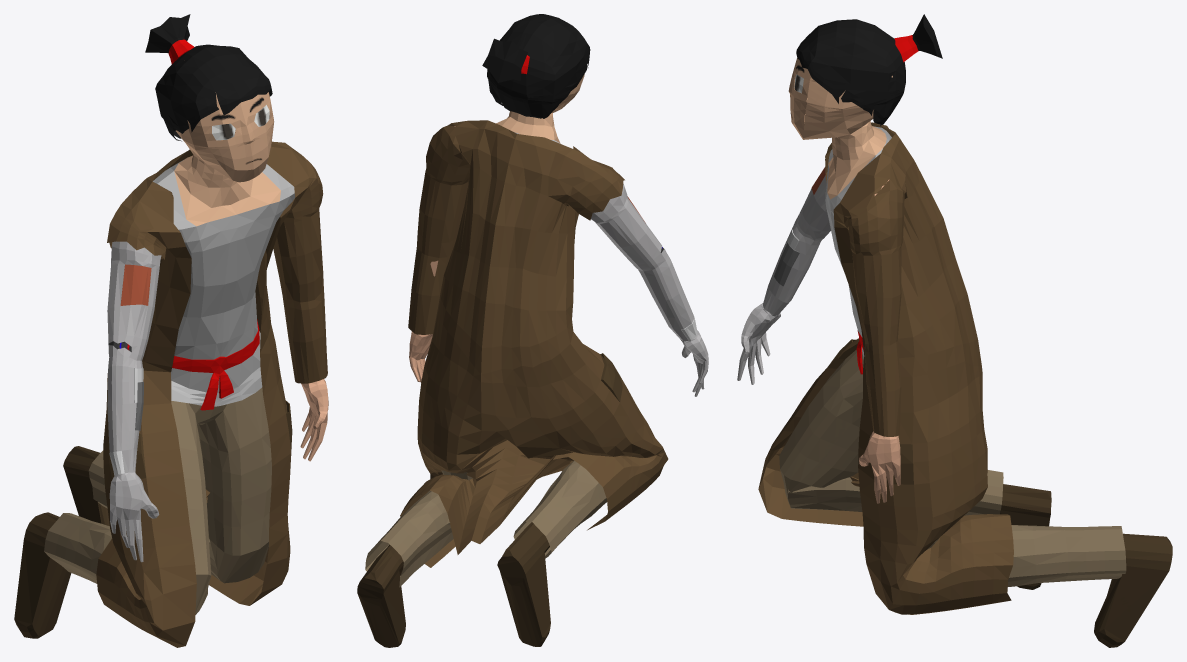
File: One_Die_000016.obj
3 views of the same model, side by side, from view 1: azimuth 30°, elevation 25°; view 2: azimuth 150°, elevation 25°; view 3: azimuth 270°, elevation 25° (orthographic). The views are drawn at different scales.
Parts seen in each view (by area): view 1: Hair_Cube.004; view 2: Hair_Cube.004; view 3: Hair_Cube.004.
Boxes of the visible parts, x1=… form: Hair_Cube.004: x1=14, y1=14, x2=328, y2=647; Hair_Cube.004: x1=357, y1=14, x2=708, y2=647; Hair_Cube.004: x1=737, y1=14, x2=1172, y2=647.
Size of the model in its own units: 1.39 by 3.03 by 1.96.
